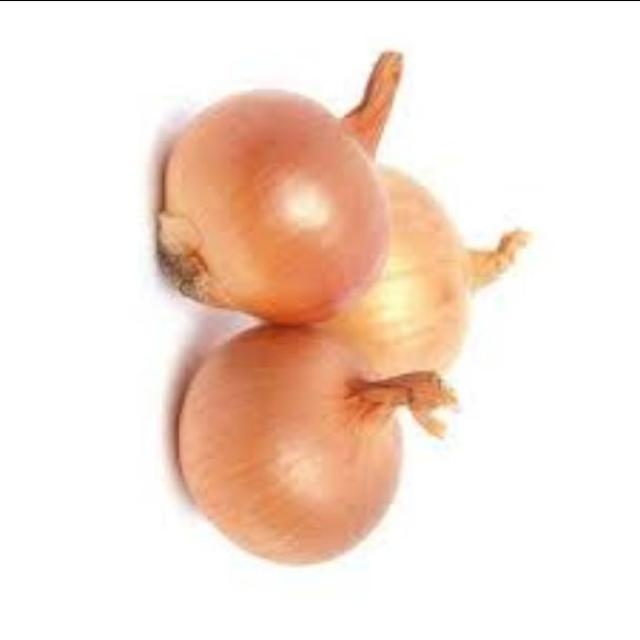onion: (128, 67, 400, 329), (163, 306, 420, 574), (314, 133, 486, 379)
